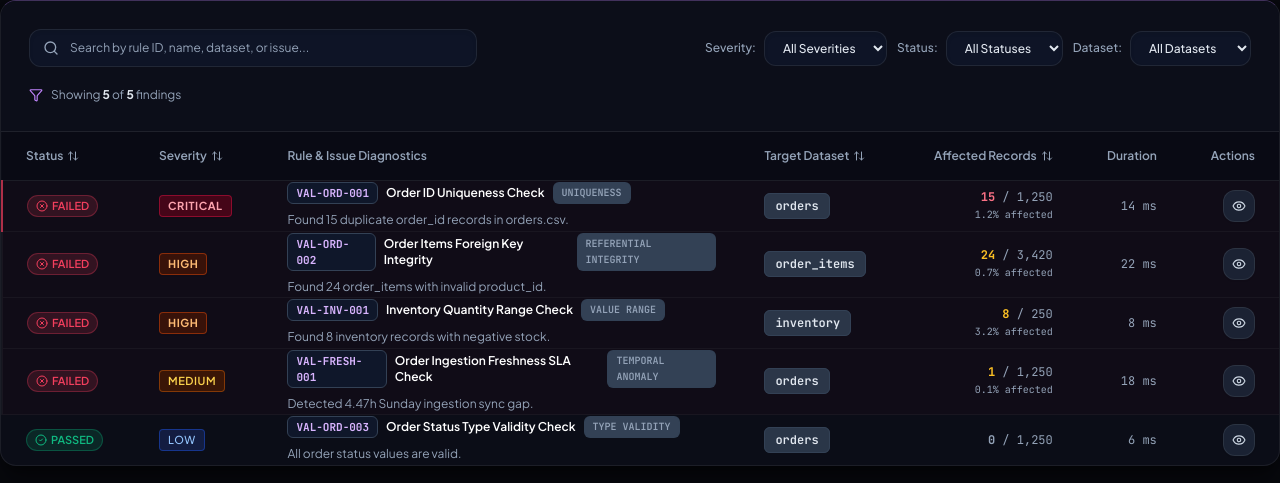
FindingsTable Component › filters by status correctly (PASSED vs FAILED)
The width and height of the screenshot is (1280, 483).
Select "PASSED" in the dropdown with test id "filter-status": (1004, 48) top-left (946, 30), bottom-right (1063, 66)
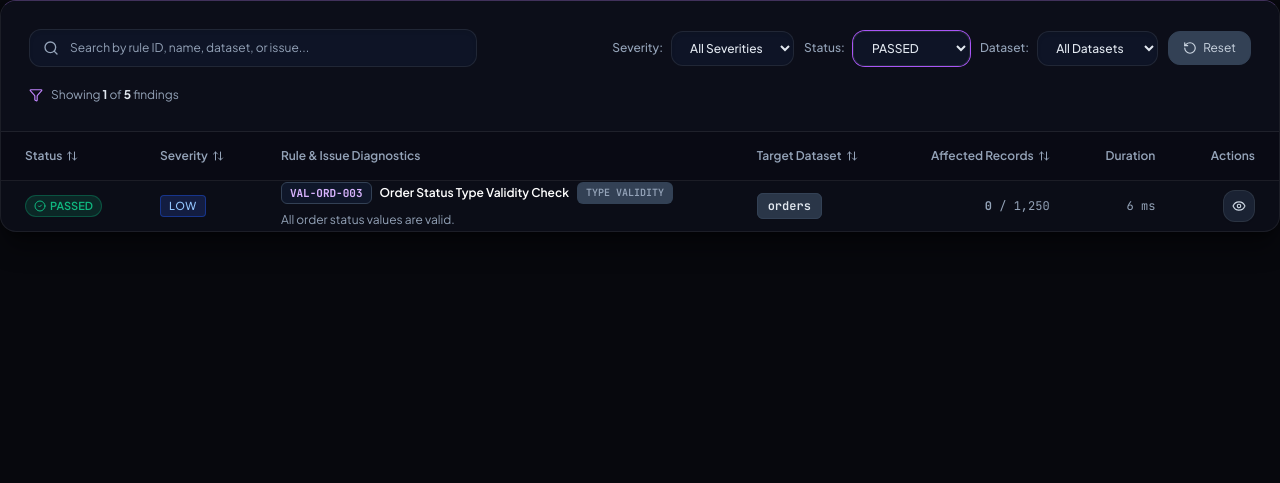
Check: the row with test id "finding-row-VAL-ORD-003" is shown, box top-left (1, 180), bottom-right (1279, 230)
Check: the row with test id "finding-row-VAL-ORD-001" is gone
